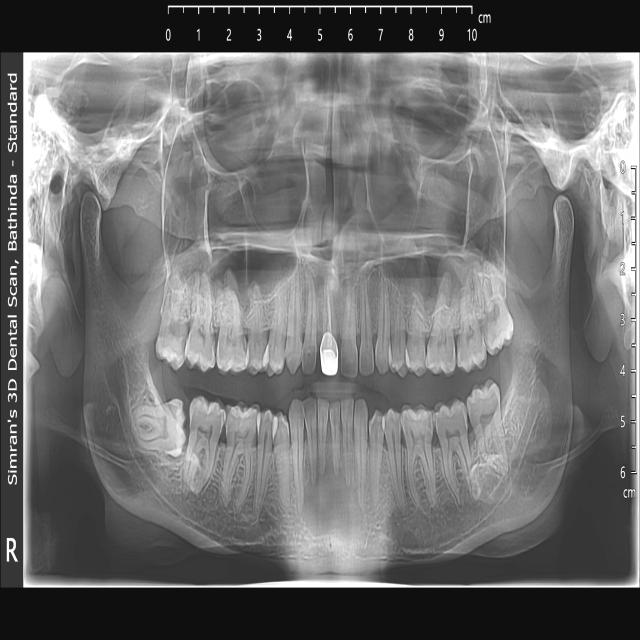Caries: (482, 296, 501, 353)
Crown: (320, 328, 338, 375)
Mandibular Canal: (105, 353, 251, 544), (401, 377, 546, 551)
Periapical lesion: (302, 469, 367, 556), (469, 460, 513, 506)
Root Canal Treatment: (327, 280, 332, 338)
impacted tooth: (131, 400, 186, 455)
maxillary sinus: (365, 114, 507, 318), (163, 118, 309, 316)
